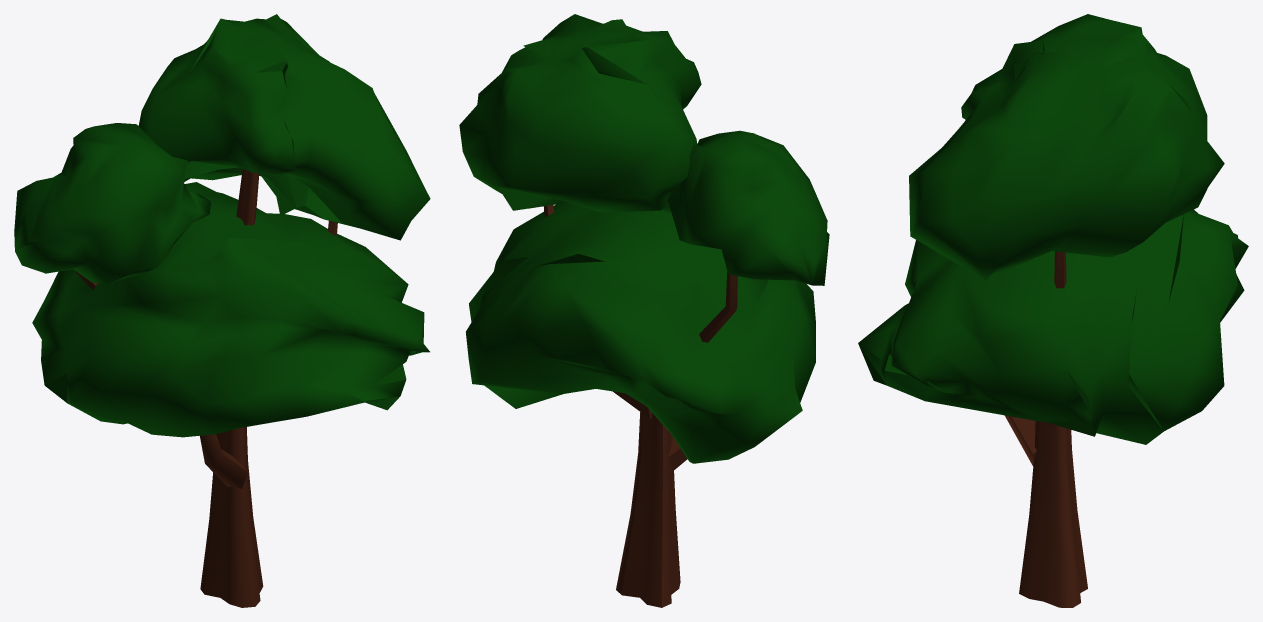
Rendered from cay2.fbx.
3 renders of one model, left to right at view 1: azimuth 30°, elevation 25°; view 2: azimuth 150°, elevation 25°; view 3: azimuth 270°, elevation 25°, orthographic. The views are drawn at different scales.
Parts seen in each view (by area): view 1: VIFS002, VIFS001; view 2: VIFS002, VIFS001; view 3: VIFS002, VIFS001.
Part boxes in pixels (x1,y1,x2,y2): VIFS002: (14, 14, 430, 437); VIFS001: (73, 168, 337, 607); VIFS002: (459, 14, 829, 463); VIFS001: (543, 205, 737, 607); VIFS002: (858, 14, 1248, 444); VIFS001: (1004, 251, 1087, 607).
Size of the model in its own units: 8.41 by 13 by 7.97.
